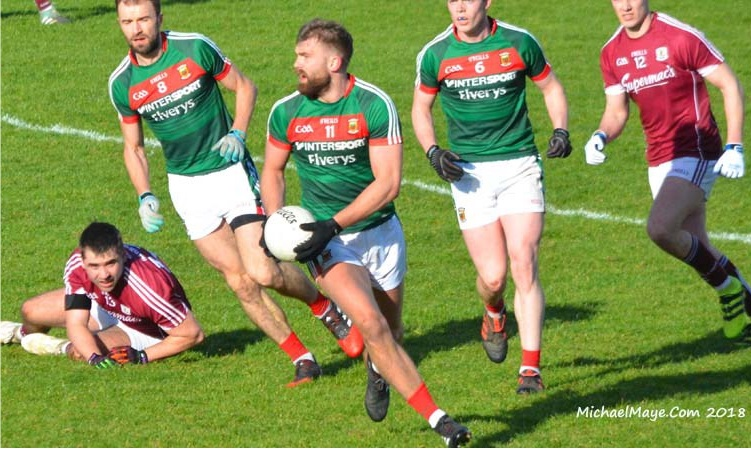ball: (259, 206, 319, 262)
player: (103, 1, 297, 354), (274, 22, 439, 403), (420, 1, 568, 383), (590, 1, 742, 321)
